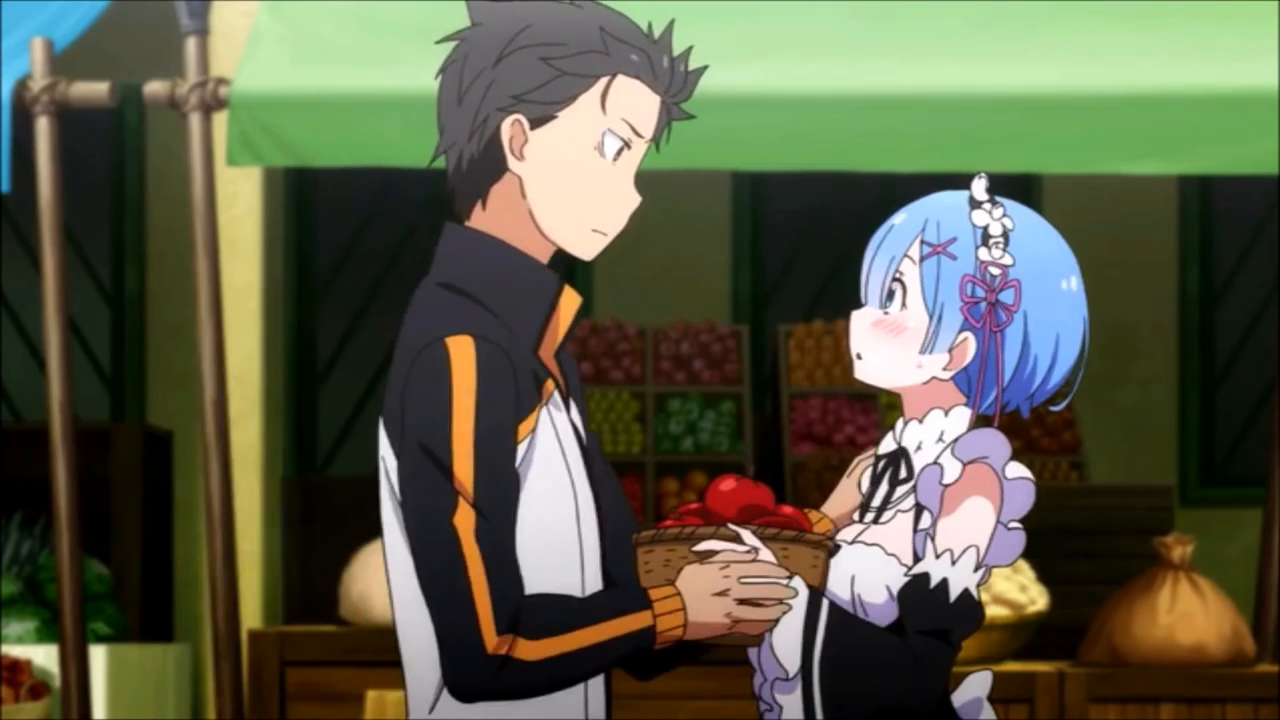REM: (843, 178, 1099, 431)
